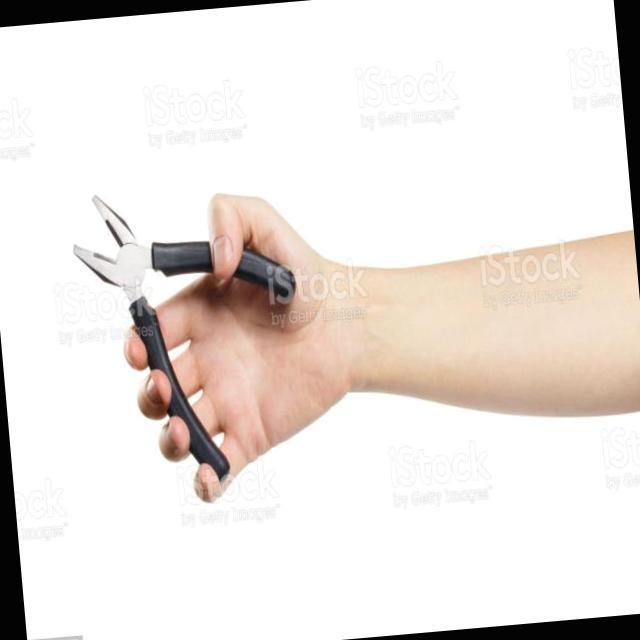pliers: (73, 195, 229, 479), (235, 249, 295, 302)
